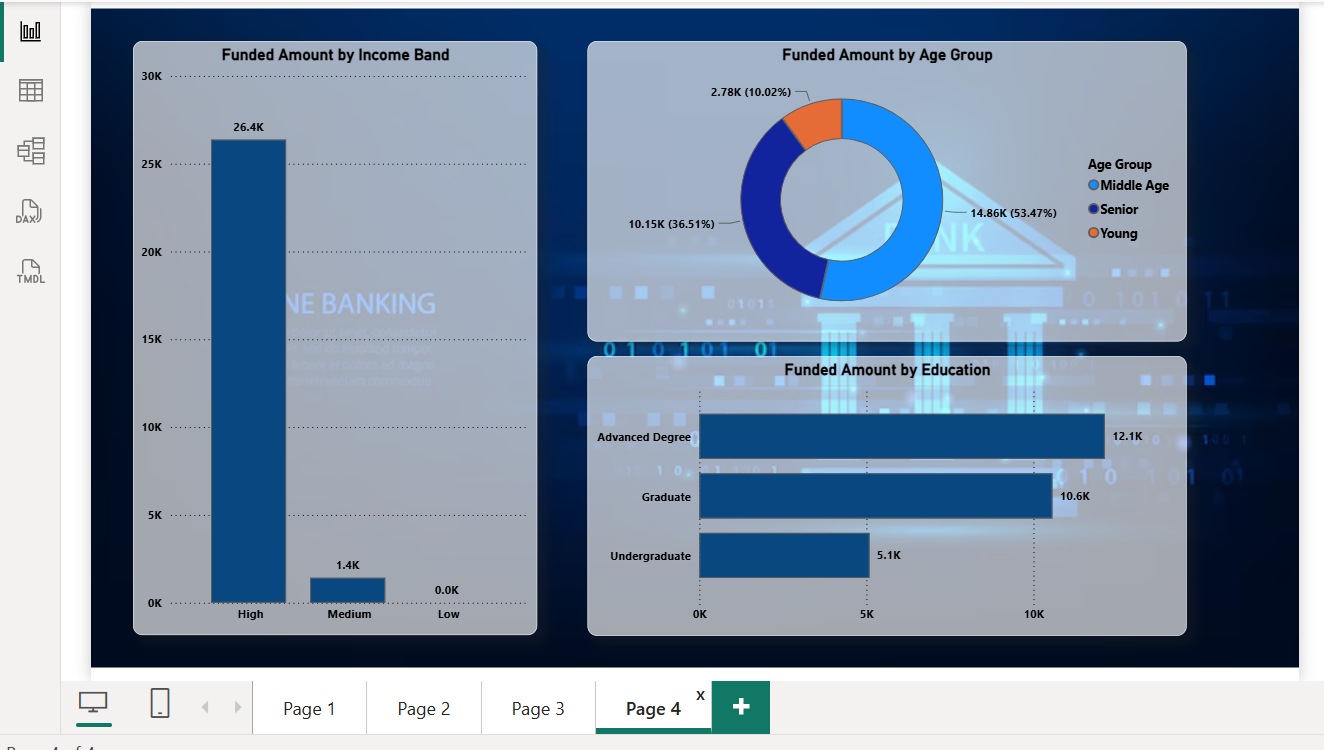

What the dashboard file says about the page in this screenshot:
{"tool":"powerbi","page":{"name":"Page 4","canvas":[1280,720],"ordinal":3},"visuals":[{"type":"columnChart","title":"Funded Amount by Income Band","fields":{"Category":["Data.Income Band"],"Y":["Data.Total Funded Amount"]},"box":[45,41.7,428.3,630],"z":2000},{"type":"barChart","title":"Funded Amount by Education","fields":{"Category":["Data.Education Name"],"Y":["Data.Total Funded Amount"]},"box":[526.7,375,635,296.7],"z":3000},{"type":"donutChart","title":"Funded Amount by Age Group","fields":{"Category":["Data.Age Group"],"Y":["Data.Total Funded Amount"]},"box":[526.7,41.7,635,318.3],"z":4000}]}

Visuals, with their boxes on the page's 1280x720 design canvas (x1, y1, x2, y2). These are canvas units, not pixel positions in the 1324x750 screenshot, which may show the page scaled, cropped or inside an application window:
"Funded Amount by Income Band" columnChart: bbox(45, 42, 473, 672)
"Funded Amount by Education" barChart: bbox(527, 375, 1162, 672)
"Funded Amount by Age Group" donutChart: bbox(527, 42, 1162, 360)
